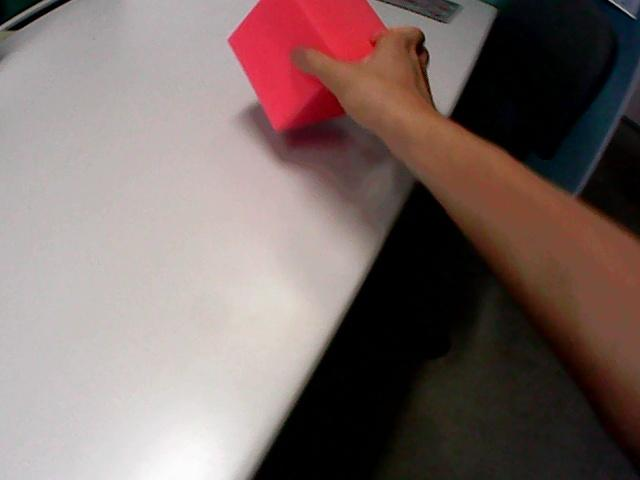red_block: (229, 0, 384, 130)
